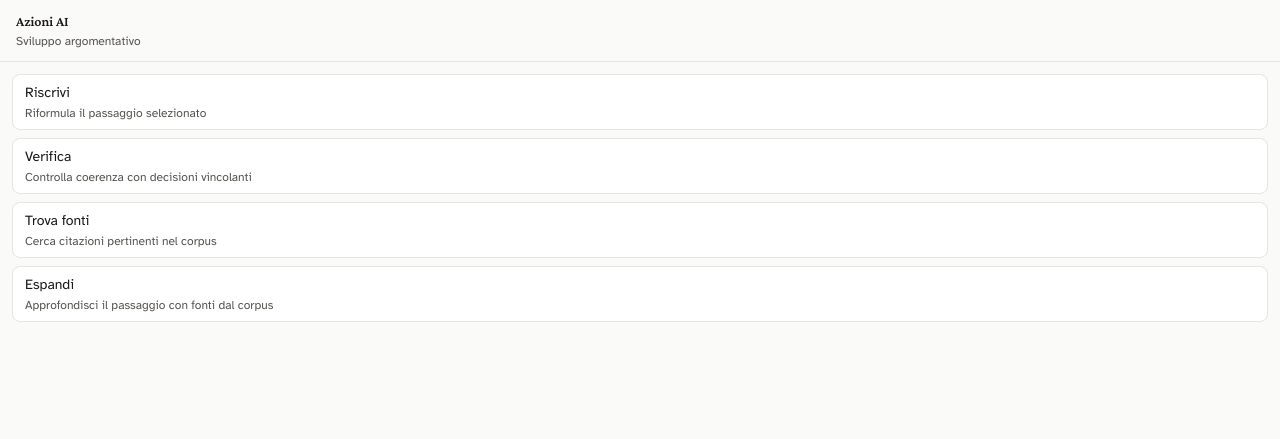
Test: WritingAiPanel › discards partial stream on cancel
Click the button "Espandi Approfondisci il passaggio con fonti dal corpus".
click(50, 284)  # box [12,266,1268,322]
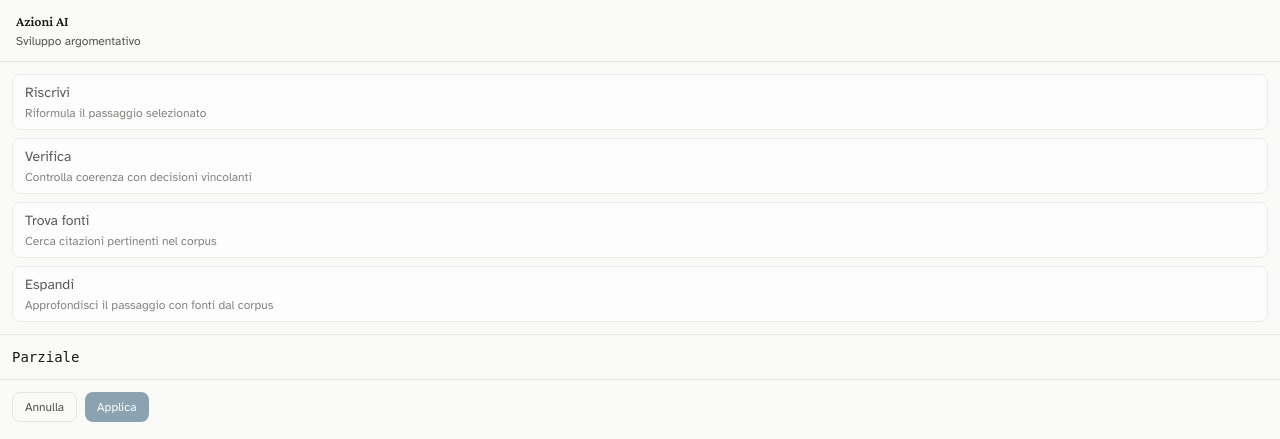
Check: the text with test id "ai-stream-output" reads "Parziale", box [12,349,79,365]
Click the button "Annulla".
click(45, 407)  # box [12,392,77,422]
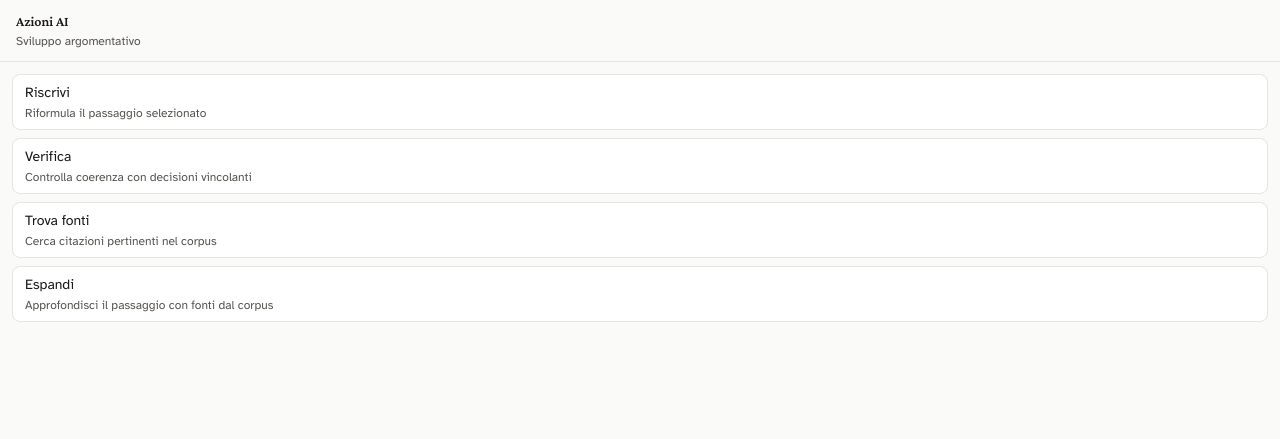
Check: the text with test id "ai-stream-output" is gone
